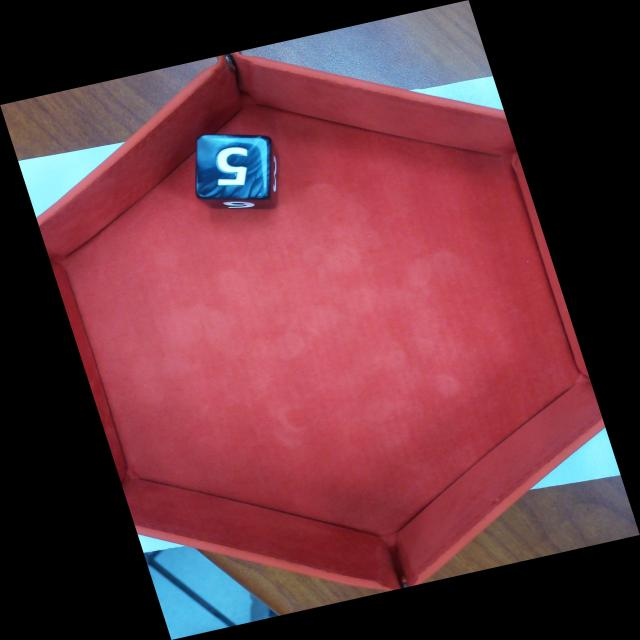dice: (195, 134, 271, 201)
